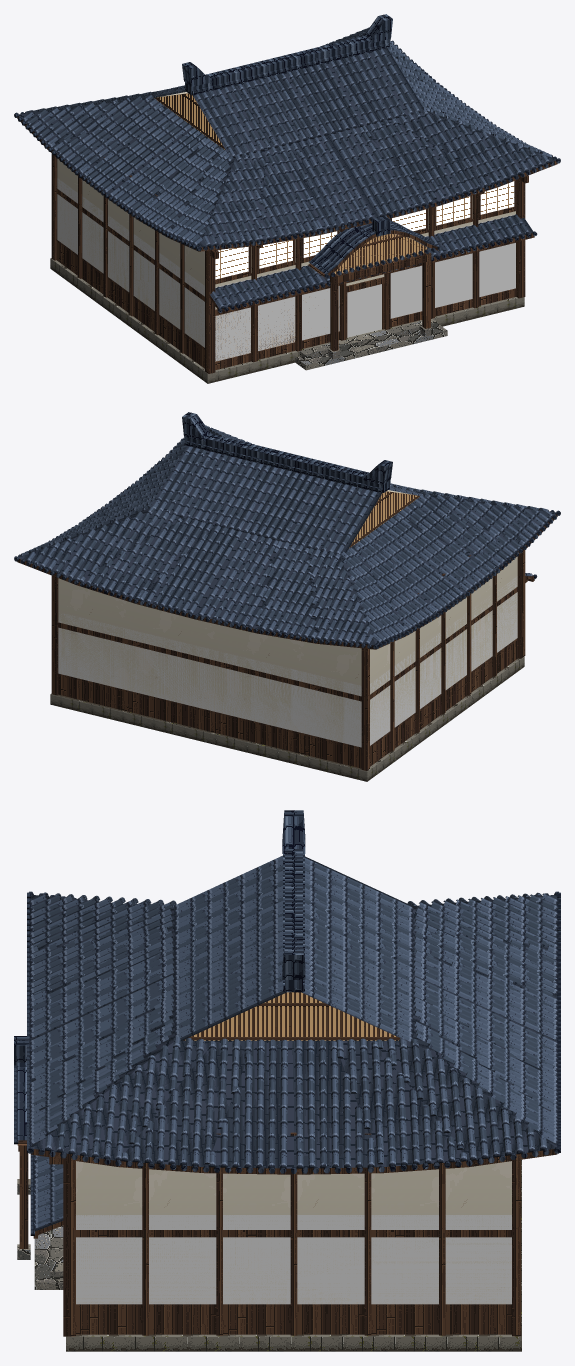
The model's file is JP_Rich_GuildHall_A.glb.
The picture shows the model from 3 angles, top to bottom: view 1: azimuth 30°, elevation 25°; view 2: azimuth 150°, elevation 25°; view 3: azimuth 270°, elevation 25°; orthographic projection. The views are drawn at different scales.
Parts seen in each view (by area): view 1: JP_Rich_GuildHall_A, COL_JP_Rich_GuildHall_A; view 2: JP_Rich_GuildHall_A, COL_JP_Rich_GuildHall_A; view 3: JP_Rich_GuildHall_A, COL_JP_Rich_GuildHall_A.
Part boxes in pixels (bbox=[...]): JP_Rich_GuildHall_A: bbox=[14, 14, 560, 383]; COL_JP_Rich_GuildHall_A: bbox=[57, 178, 515, 361]; JP_Rich_GuildHall_A: bbox=[14, 412, 560, 781]; COL_JP_Rich_GuildHall_A: bbox=[58, 576, 517, 747]; JP_Rich_GuildHall_A: bbox=[14, 810, 560, 1351]; COL_JP_Rich_GuildHall_A: bbox=[76, 1215, 511, 1304].
Bounding box in the file's own units: 16.4 × 10.63 × 14.75.
10 materials, 10 textured.
